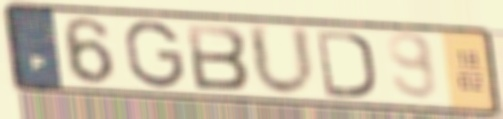6: (60, 14, 120, 89)
9: (386, 29, 441, 107)
B: (182, 21, 253, 92)
D: (313, 27, 379, 101)
G: (121, 18, 188, 91)
U: (244, 21, 320, 100)
